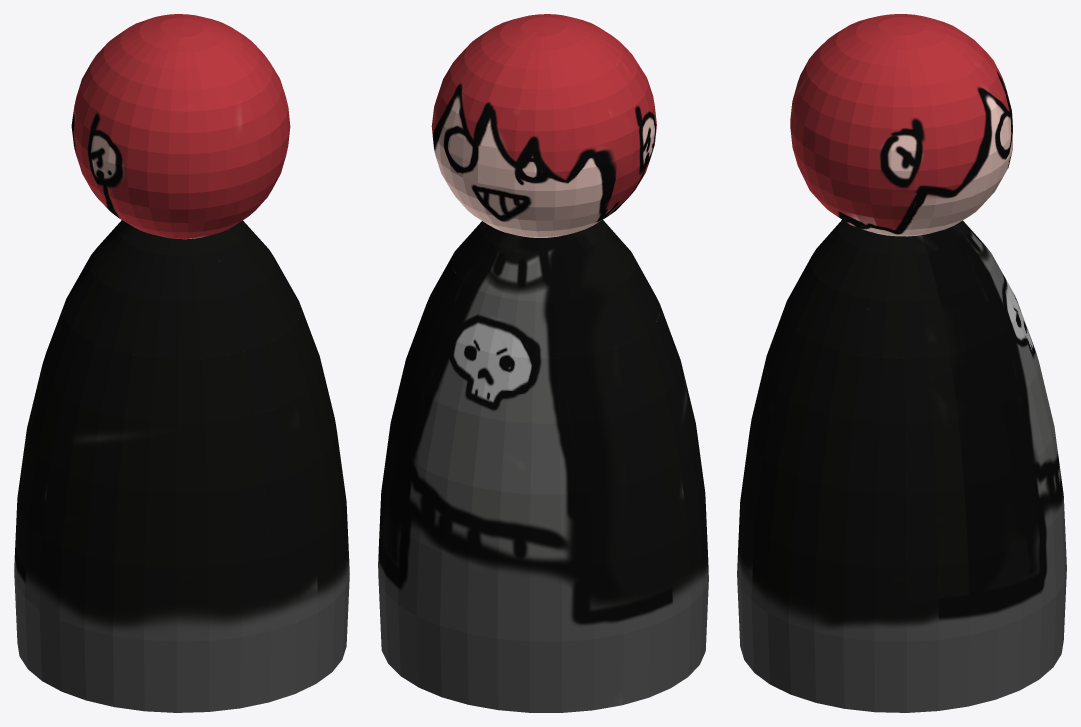
File: Old doll.fbx
The picture shows the model from 3 angles, left to right: view 1: azimuth 30°, elevation 25°; view 2: azimuth 150°, elevation 25°; view 3: azimuth 270°, elevation 25°; orthographic projection.
Parts seen in each view (by area): view 1: Sphere.001; view 2: Sphere.001; view 3: Sphere.001.
Boxes of the visible parts, x1=… form: Sphere.001: x1=14, y1=14, x2=349, y2=712; Sphere.001: x1=378, y1=14, x2=708, y2=712; Sphere.001: x1=737, y1=14, x2=1066, y2=712.
Size of the model in its own units: 265 by 539 by 261.
